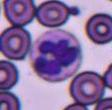N: (30, 30, 82, 81)
